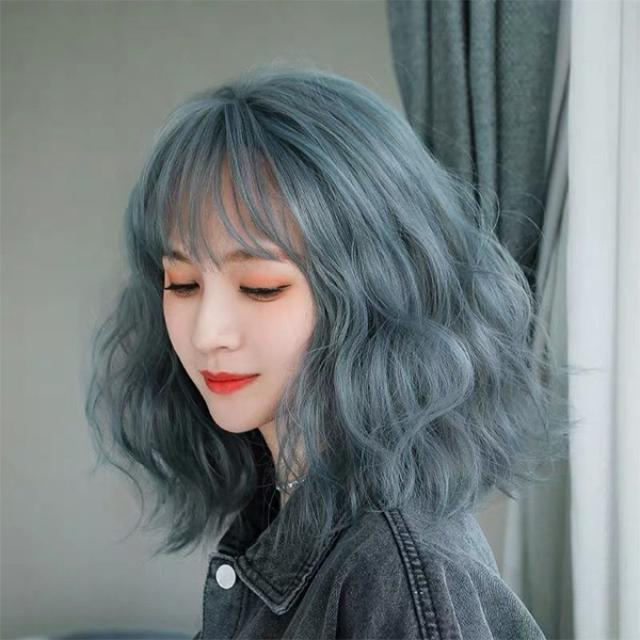Nonhelmet: (115, 96, 441, 450)
